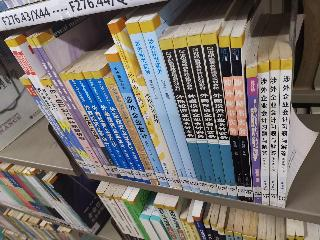book-spine: (10, 38, 100, 178), (5, 38, 95, 176), (26, 37, 113, 178), (32, 36, 117, 180), (106, 21, 176, 193), (125, 19, 192, 195), (138, 18, 202, 198), (104, 48, 169, 191), (158, 36, 210, 198), (172, 36, 219, 199), (89, 68, 152, 189), (72, 70, 137, 187), (81, 67, 144, 187), (39, 74, 109, 182), (64, 69, 128, 183), (57, 71, 122, 182), (17, 76, 88, 176), (187, 34, 228, 200), (23, 77, 91, 177), (102, 73, 160, 190), (200, 32, 237, 202), (136, 75, 183, 193), (217, 34, 246, 203), (229, 36, 253, 203), (273, 58, 293, 207), (245, 66, 263, 204), (266, 59, 281, 206), (258, 61, 269, 205)
